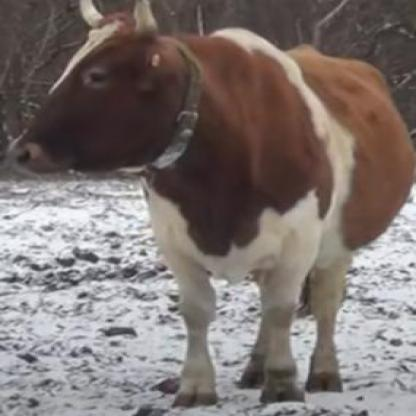cow: (9, 19, 413, 405)
